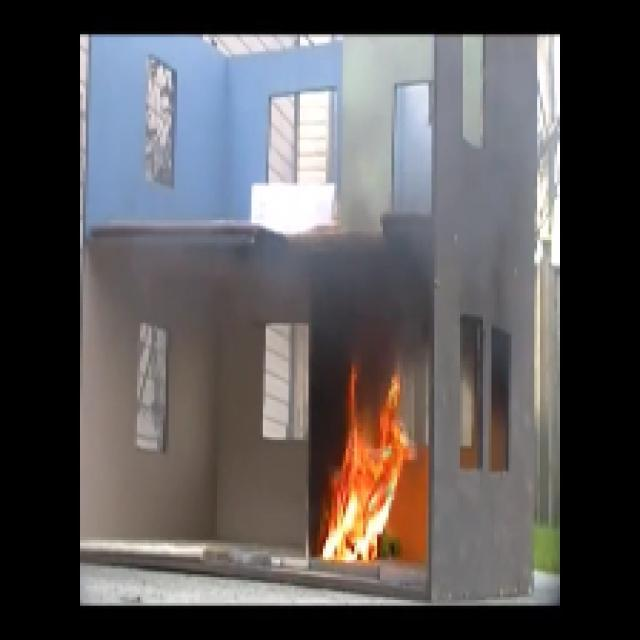Fire: (324, 402, 410, 562)
Smoke: (322, 255, 410, 336)
